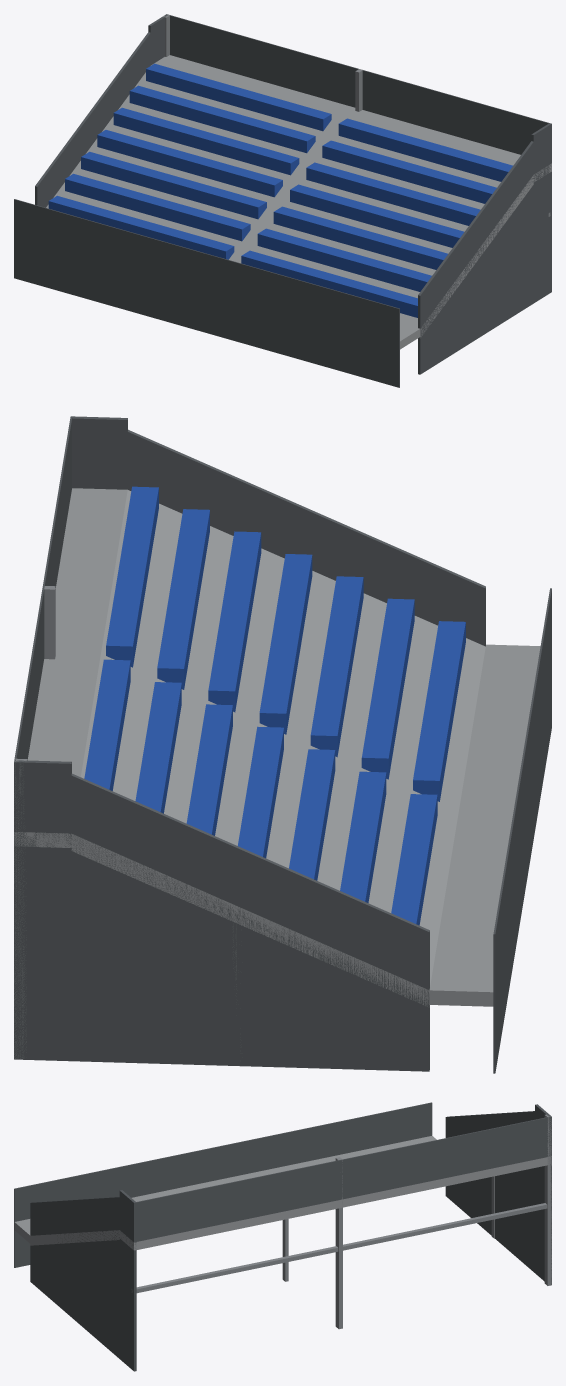
The model's file is mza_stand_pv_small.glb.
The picture shows the model from 3 angles, top to bottom: view 1: azimuth 30°, elevation 25°; view 2: azimuth 150°, elevation 25°; view 3: azimuth 270°, elevation 25°; orthographic projection. The views are drawn at different scales.
Parts seen in each view (by area): view 1: monza-pv-small; view 2: monza-pv-small; view 3: monza-pv-small.
Boxes of the visible parts, x1=… form: monza-pv-small: x1=14, y1=14, x2=551, y2=387; monza-pv-small: x1=14, y1=416, x2=551, y2=1073; monza-pv-small: x1=14, y1=1102, x2=551, y2=1371.
Size of the model in its own units: 12.39 by 5.12 by 14.81.
